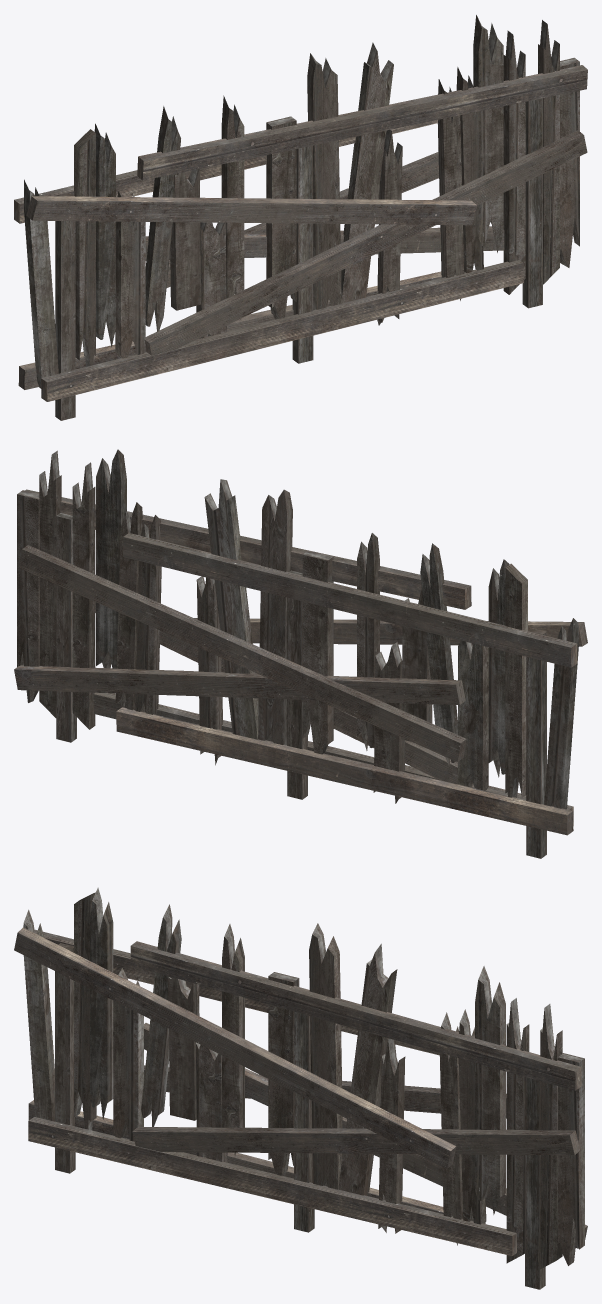
Rendered from SM_WoodFence04.fbx.
3 renders of one model, top to bottom at view 1: azimuth 30°, elevation 25°; view 2: azimuth 150°, elevation 25°; view 3: azimuth 330°, elevation 25°, orthographic.
Parts seen in each view (by area): view 1: SM_WoodFence04; view 2: SM_WoodFence04; view 3: SM_WoodFence04.
Boxes of the visible parts, left/top/right/bottom form: SM_WoodFence04: left=14, top=15, right=587, bottom=420; SM_WoodFence04: left=14, top=449, right=587, bottom=858; SM_WoodFence04: left=14, top=887, right=587, bottom=1289.
Size of the model in its own units: 300 by 156 by 28.85.
